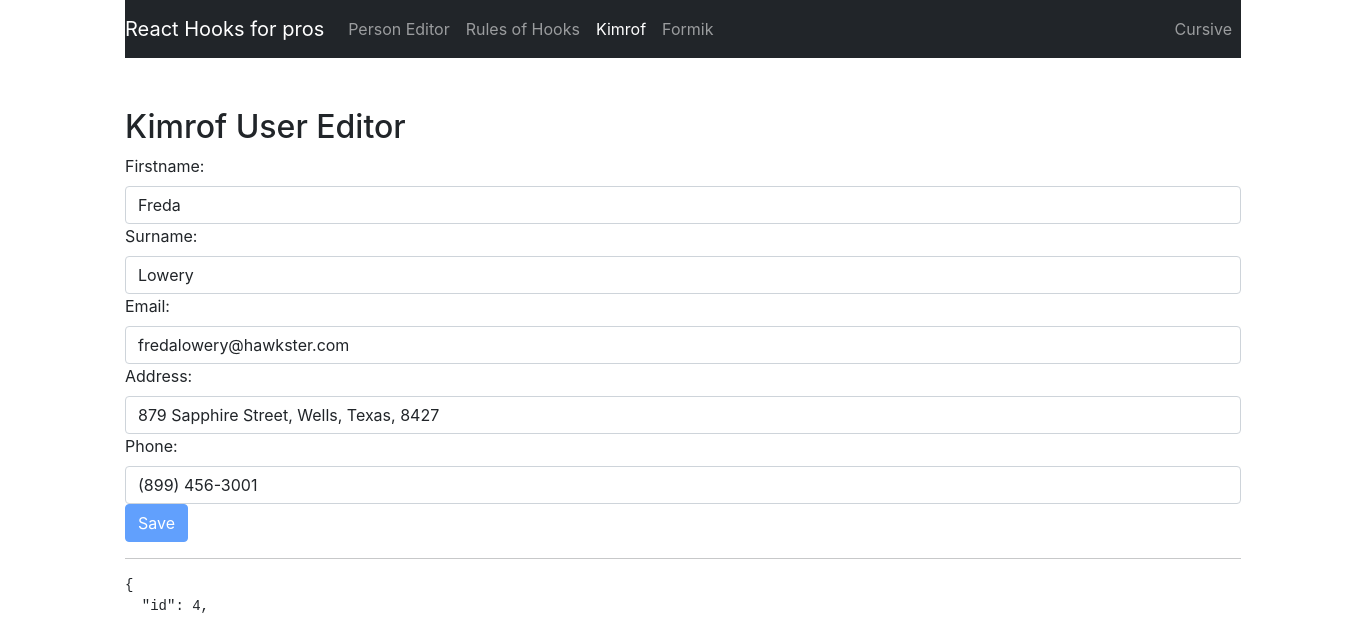
Test case: The Kimrof User Editor › Disables the Save button on invalid data
Expected: the button "Save" is disabled, [125, 504, 188, 542]
Expected: the text "The firstname is required!" is not shown
Replace the text in the field below "Email:" with "jack@sparrow.com": [683, 345] box [125, 326, 1241, 364]
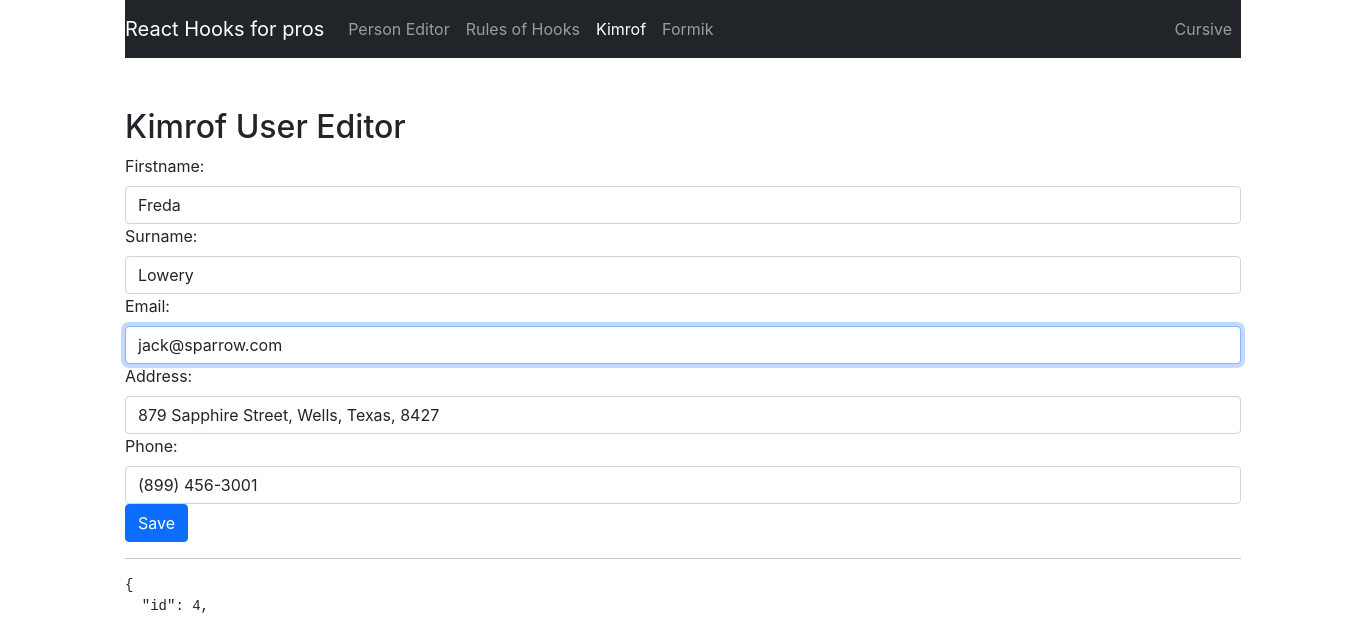
Expected: the button "Save" is enabled, [125, 504, 188, 542]
Clear the field below "Firstname:": [683, 205] box [125, 186, 1241, 224]
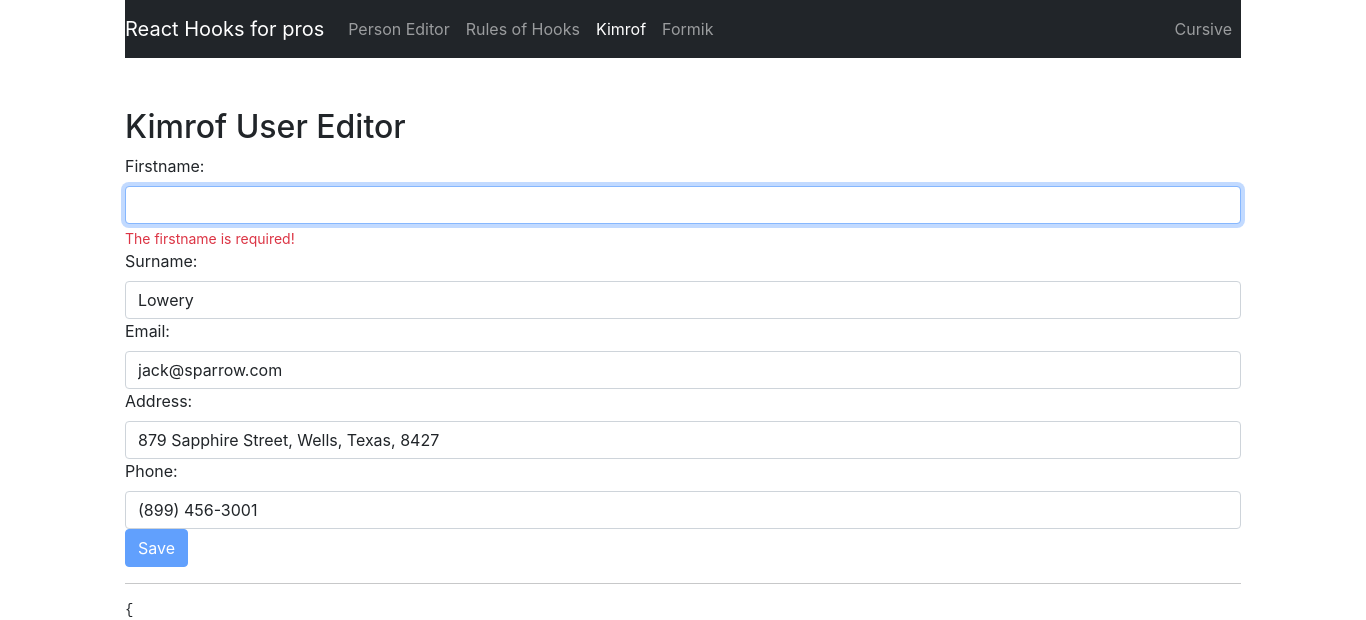
Clear the field below "Surname:": [683, 300] box [125, 281, 1241, 319]
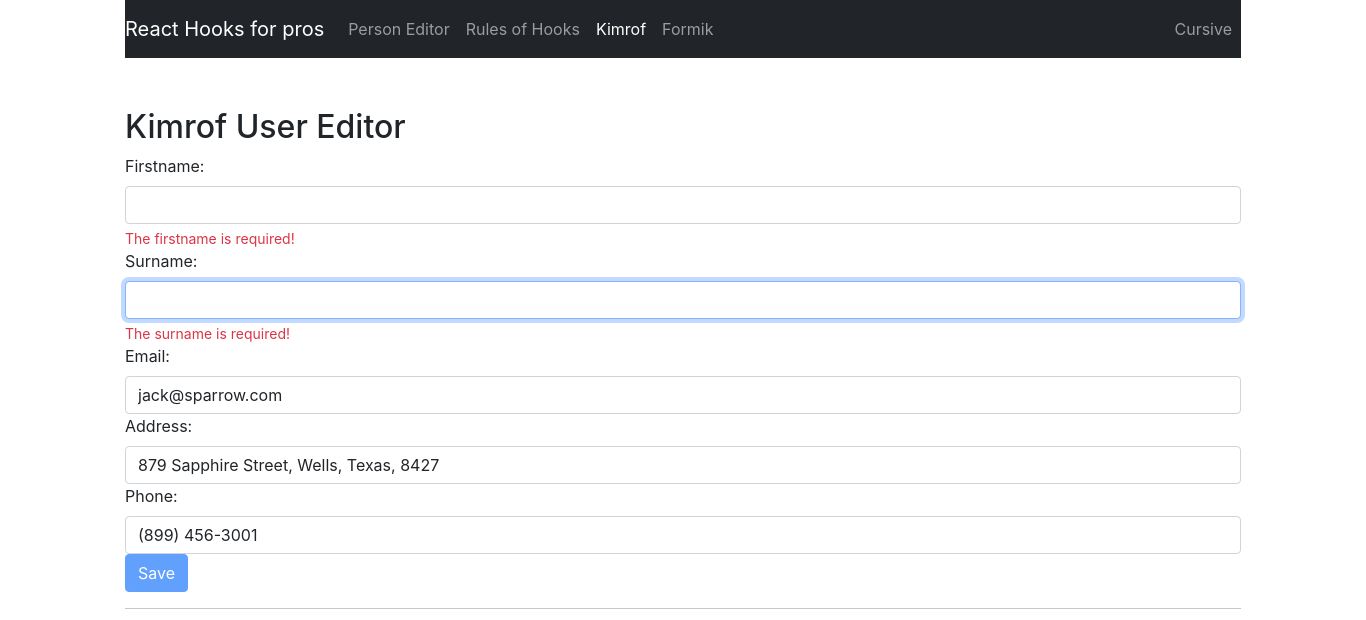
Expected: the button "Save" is disabled, [125, 554, 188, 592]
Expected: the text "The firstname is required!" is shown, [125, 230, 295, 247]
Expected: the text "The surname is required!" is shown, [125, 325, 290, 342]
